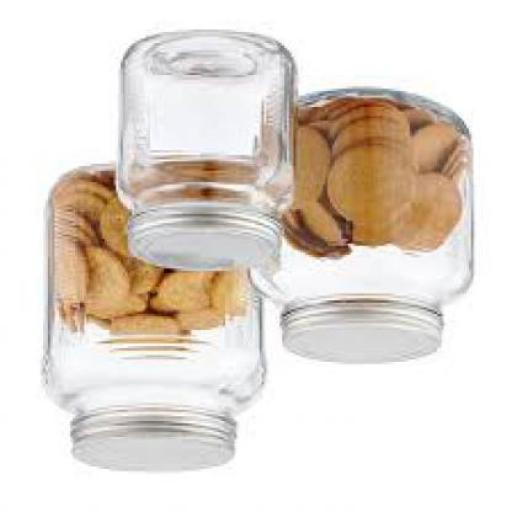biodegradable: (323, 148, 414, 227), (386, 180, 458, 259), (291, 125, 331, 216), (326, 123, 403, 166), (403, 126, 462, 180), (323, 104, 409, 136), (282, 220, 342, 262), (205, 278, 259, 323), (81, 248, 123, 305), (148, 275, 212, 312), (294, 209, 348, 249), (106, 323, 186, 350), (52, 246, 84, 307), (96, 200, 128, 259), (53, 189, 105, 223), (82, 296, 148, 321), (114, 266, 165, 296), (52, 209, 94, 244), (52, 180, 106, 206), (171, 306, 220, 332), (303, 114, 346, 143), (432, 152, 464, 189), (348, 230, 392, 255), (398, 112, 440, 138), (52, 224, 98, 246), (55, 308, 84, 332), (79, 319, 109, 335)
glass: (41, 168, 262, 417), (248, 93, 473, 312), (114, 34, 296, 218)
metal: (120, 203, 276, 275), (279, 303, 442, 364), (71, 414, 234, 473)
